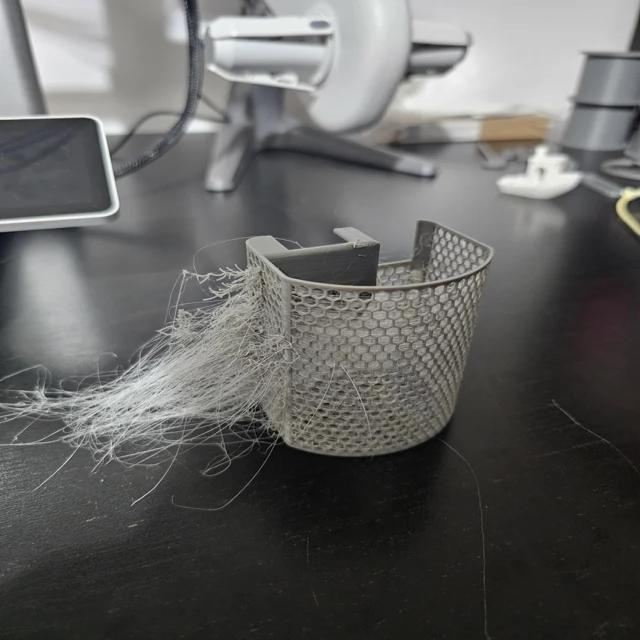stringing: (2, 257, 291, 460)
